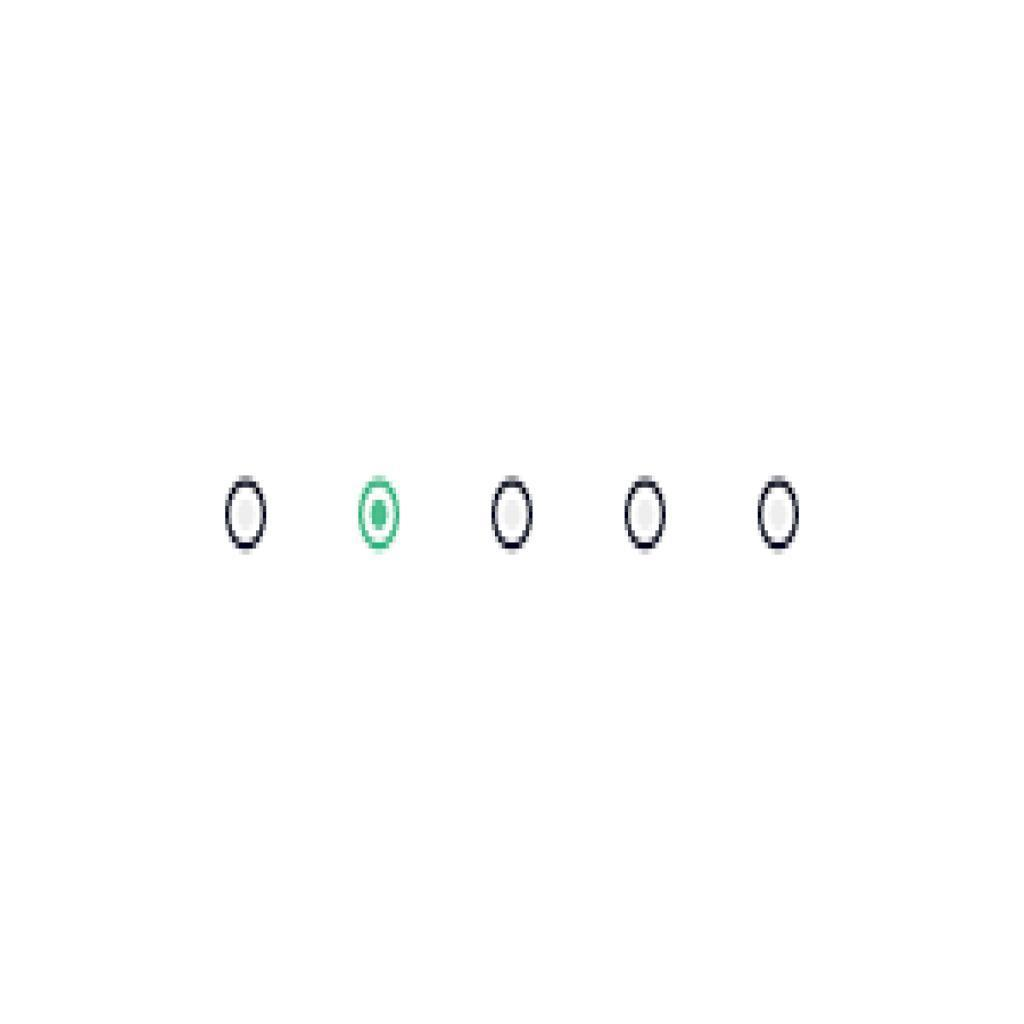radio: (755, 472, 803, 560), (622, 475, 672, 559), (357, 477, 404, 557), (491, 474, 536, 555), (223, 475, 268, 555)
